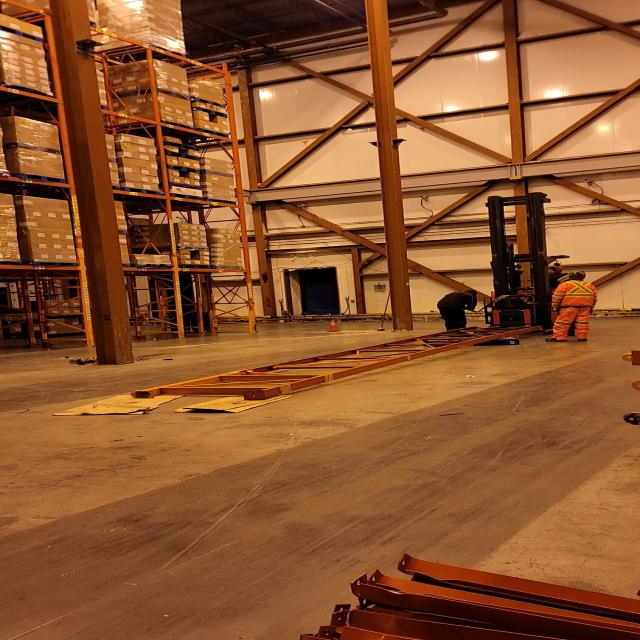forklift: (462, 196, 570, 338)
human: (544, 270, 596, 346), (536, 273, 573, 344), (434, 288, 482, 338), (520, 267, 568, 293)
objectofinterest: (124, 318, 548, 403), (49, 383, 195, 418), (172, 389, 298, 415), (471, 332, 529, 348)
